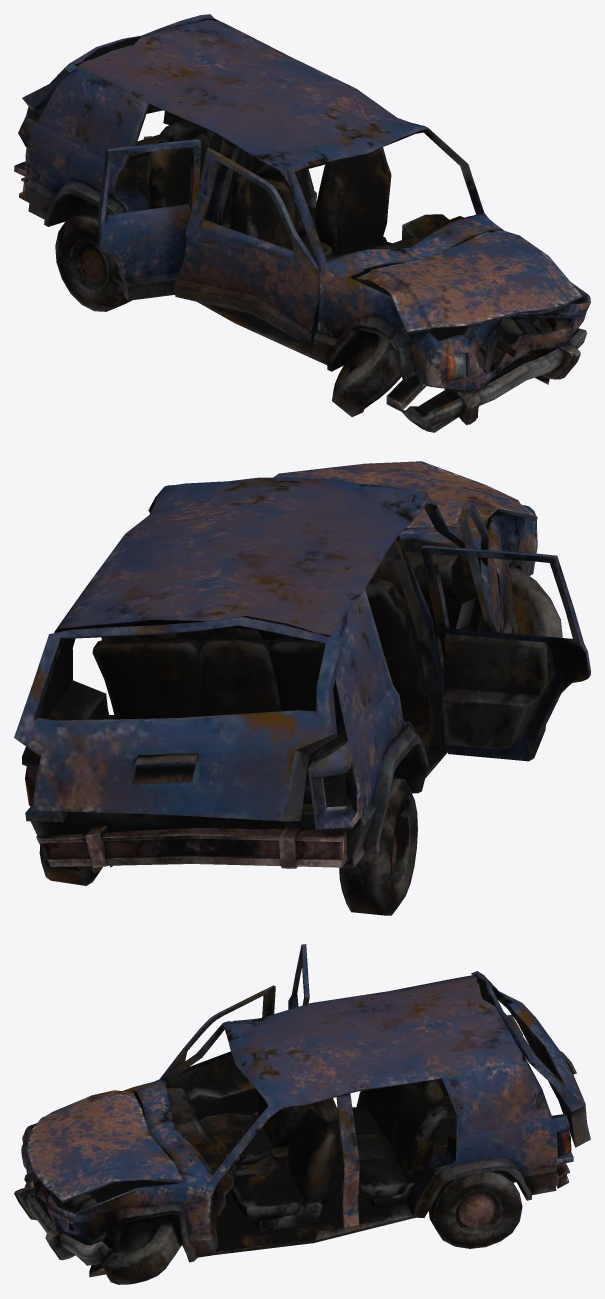
Rendered from wreck-b.glb.
The picture shows the model from 3 angles, top to bottom: view 1: azimuth 30°, elevation 25°; view 2: azimuth 150°, elevation 25°; view 3: azimuth 270°, elevation 25°; orthographic projection. The views are drawn at different scales.
Visible parts, largest first — view 1: Object_4; view 2: Object_4; view 3: Object_4.
Boxes of the visible parts, x1,y1,x2,y2 form: Object_4: (14, 14, 590, 432); Object_4: (14, 461, 590, 915); Object_4: (14, 944, 590, 1284).
Bounding box in the file's own units: 3.17 × 1.8 × 4.7.
Materials: 1 (1 with a texture image).
